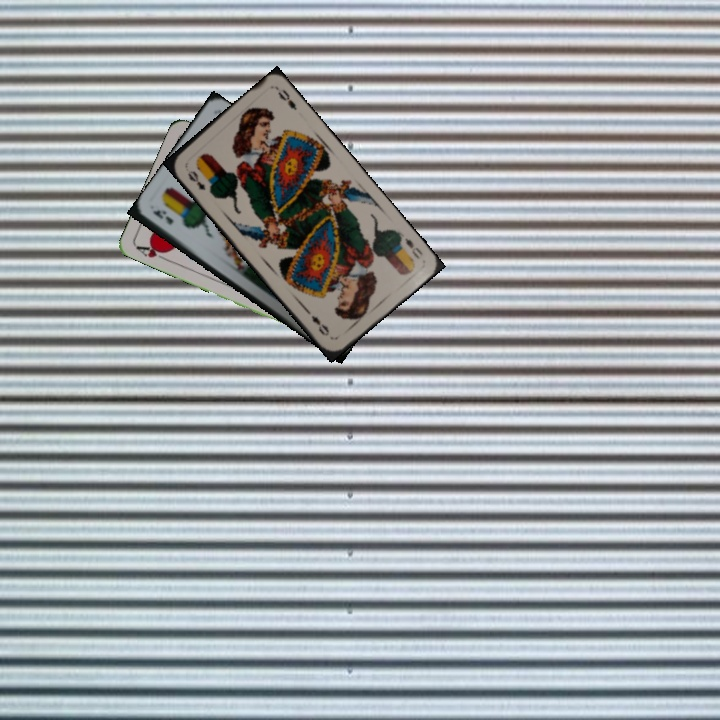EK: (148, 206, 176, 228)
EO: (183, 166, 208, 193), (401, 234, 425, 262)
HA: (132, 240, 171, 264)
